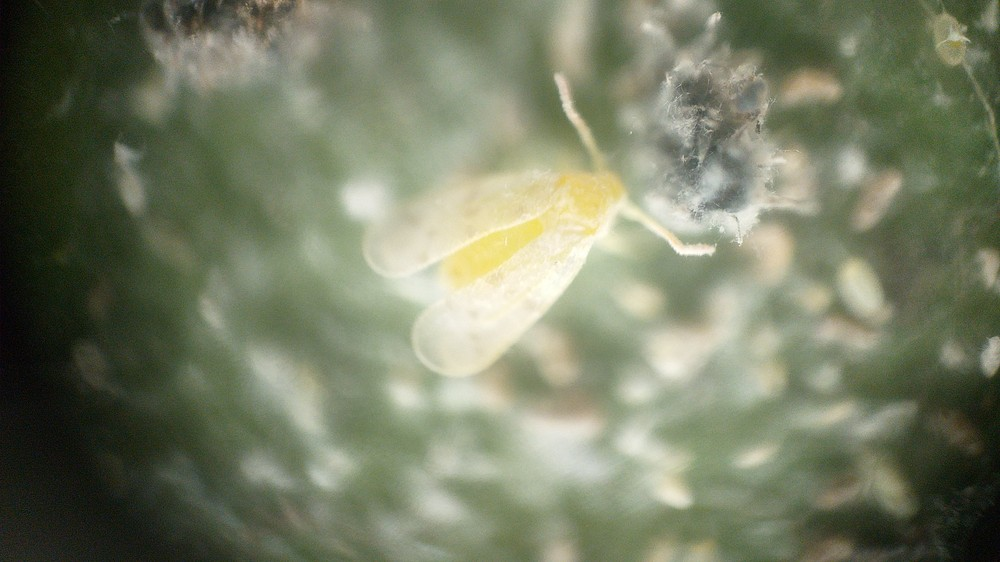Mosca Blanca: (340, 67, 726, 401)
